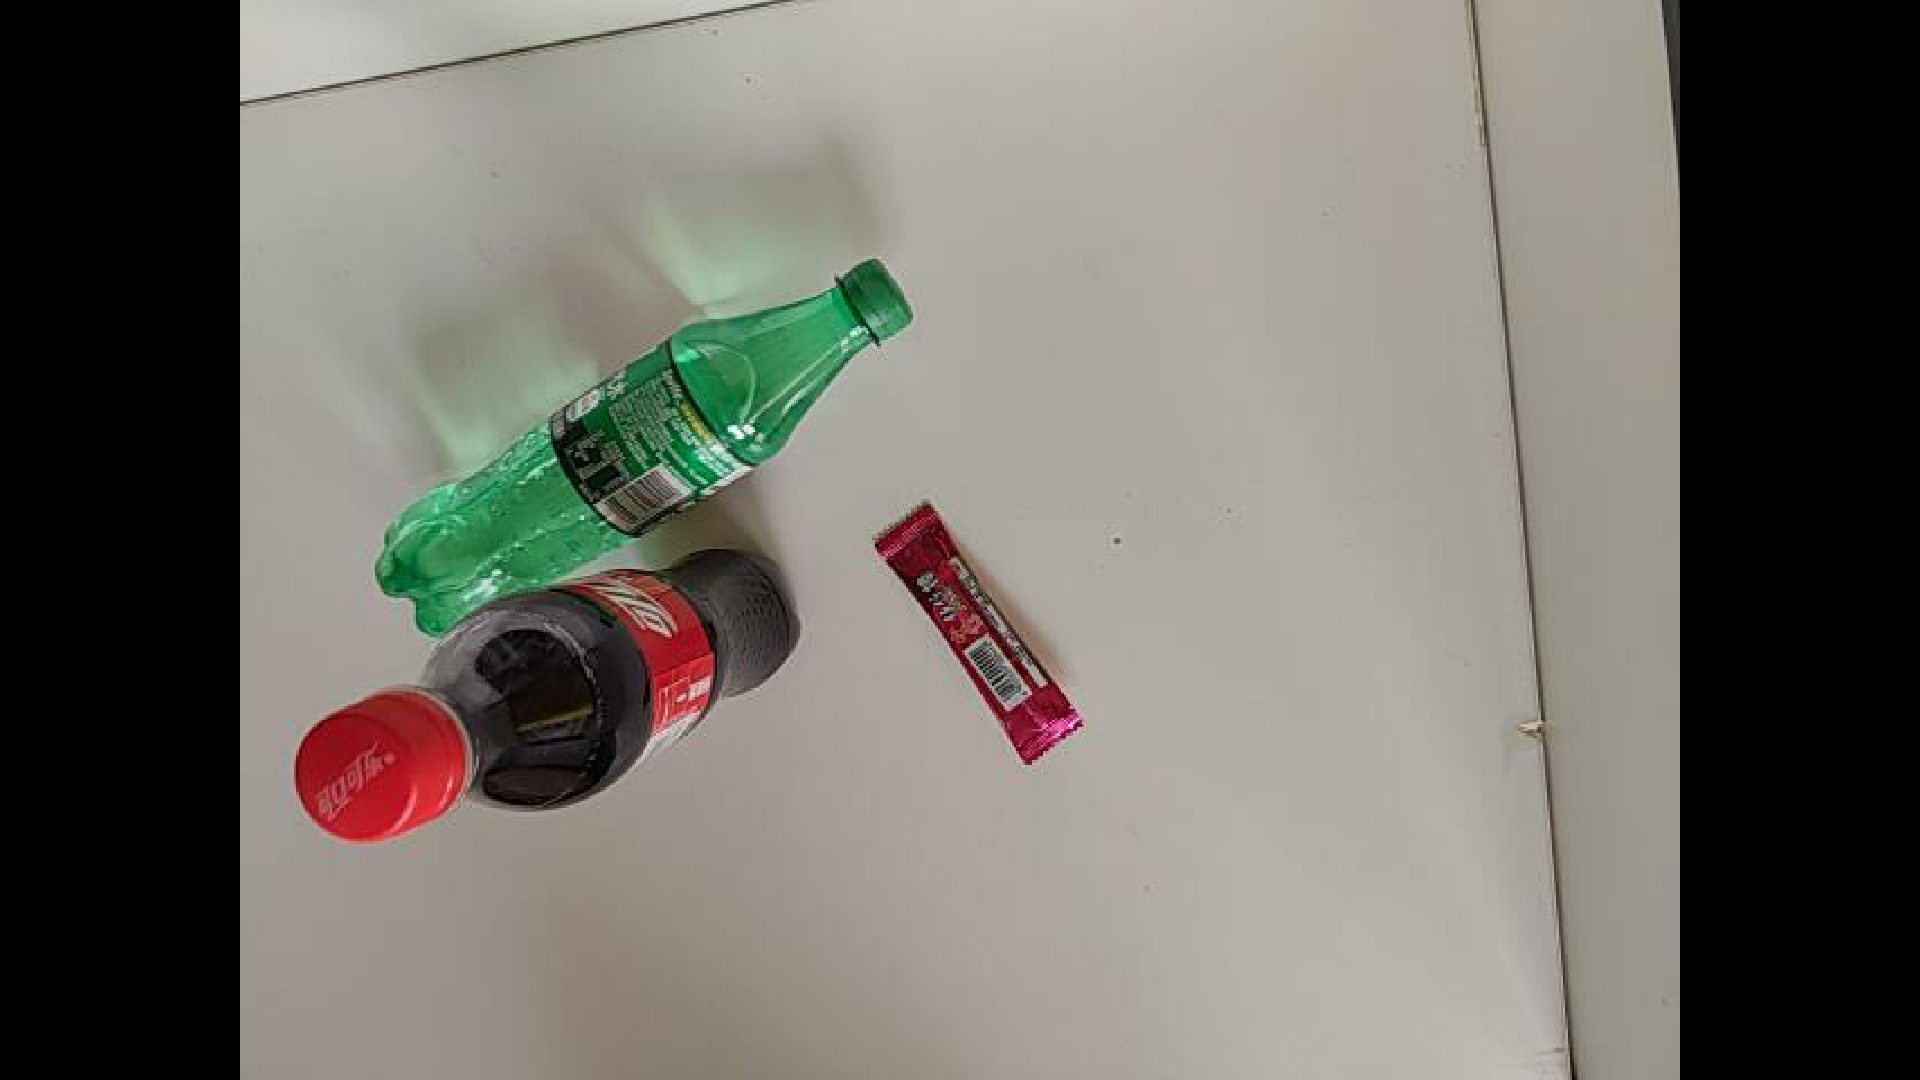cola: (257, 580, 880, 870)
sprite: (343, 355, 1015, 678)
sugar: (862, 516, 1221, 771)
